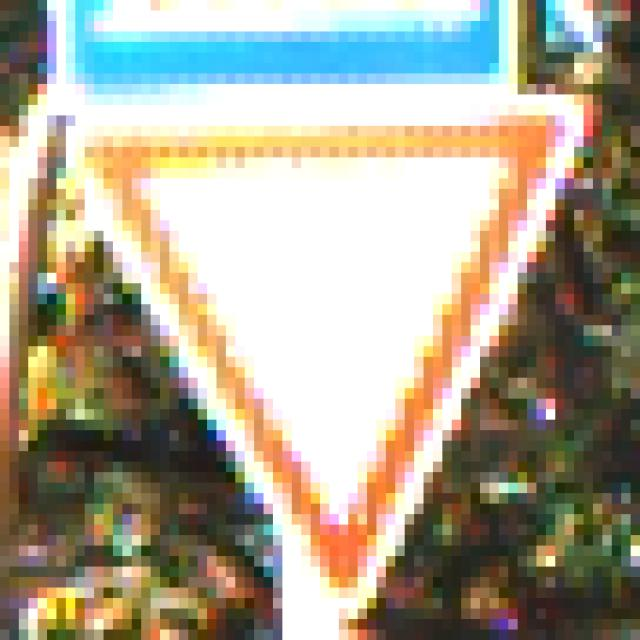Give Way: (58, 64, 585, 588)
